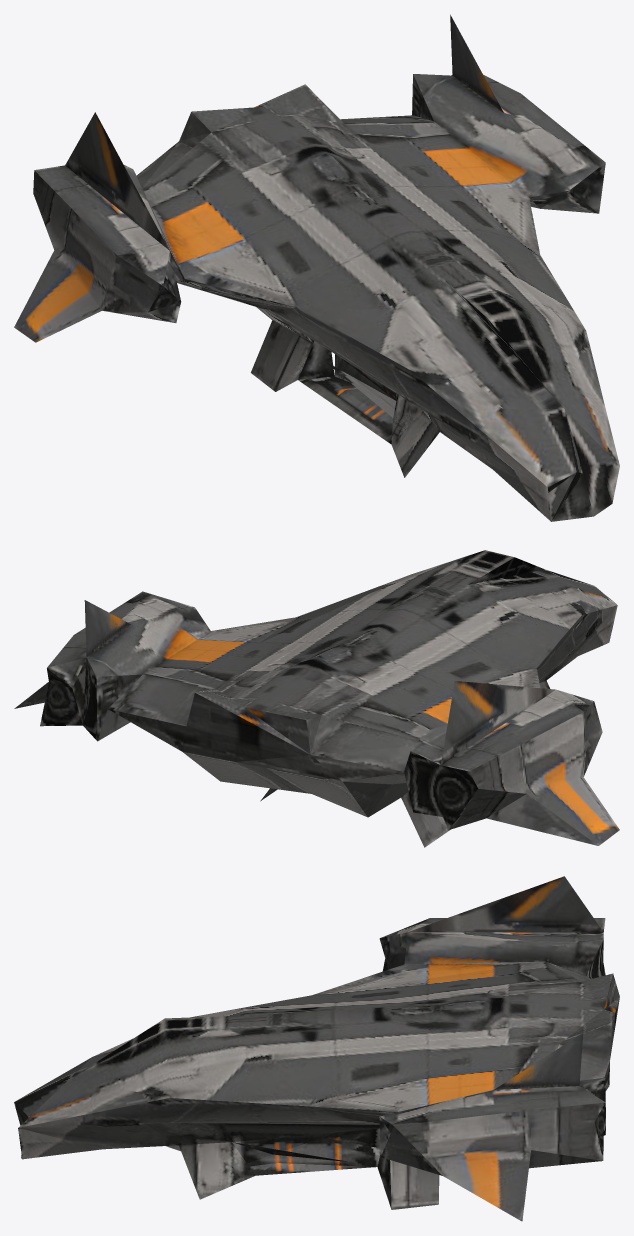
Rendered from bomber-far.glb.
The picture shows the model from 3 angles, top to bottom: view 1: azimuth 30°, elevation 25°; view 2: azimuth 150°, elevation 25°; view 3: azimuth 270°, elevation 25°; orthographic projection. The views are drawn at different scales.
Visible parts, largest first — view 1: Low; view 2: Low; view 3: Low.
Part boxes in pixels (<box>): Low: <box>14,14,619,521</box>; Low: <box>14,550,619,847</box>; Low: <box>14,876,619,1221</box>.
Size of the model in its own units: 1.59 by 0.6389 by 1.62.
1 material, 1 textured.
